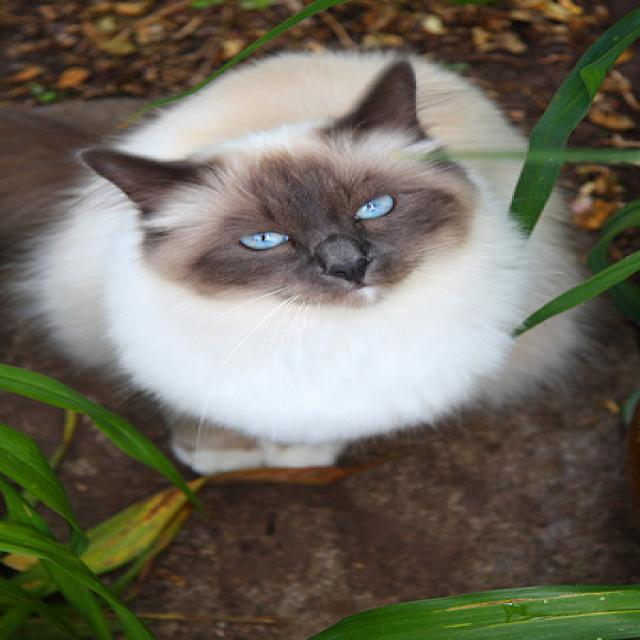Birman: (18, 47, 586, 477)
